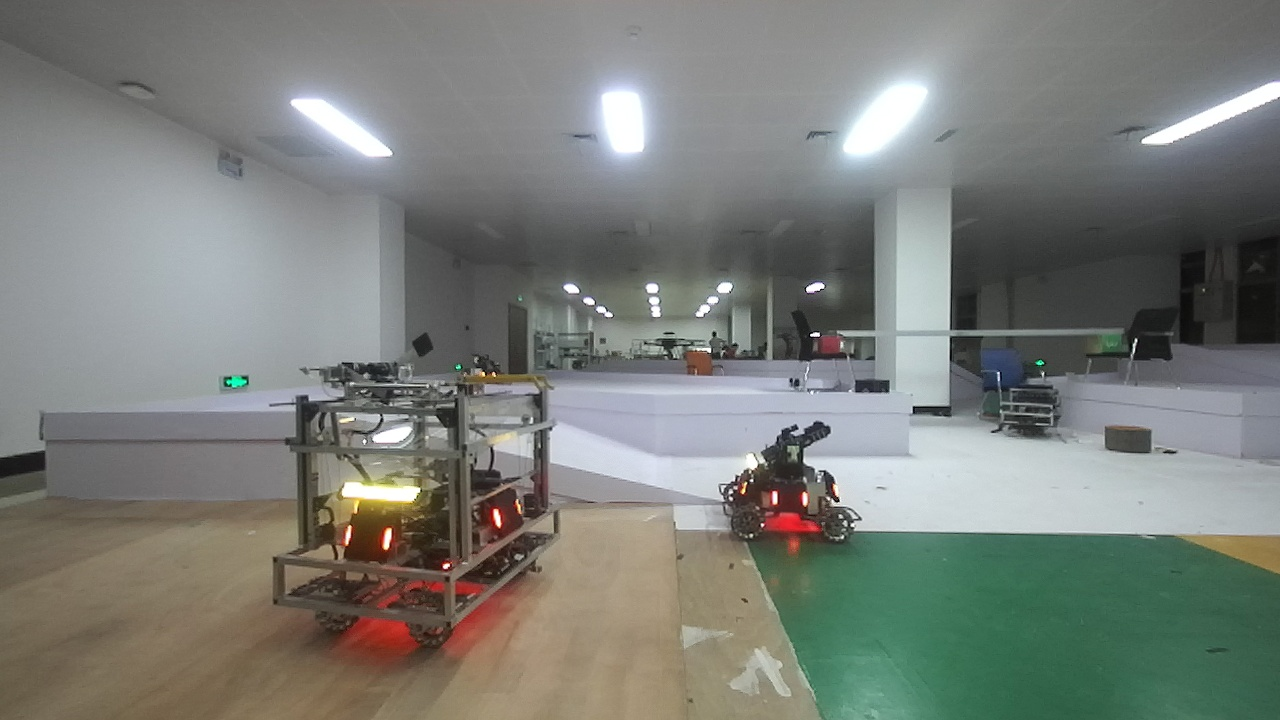car: (289, 350, 574, 635), (715, 414, 869, 568)
